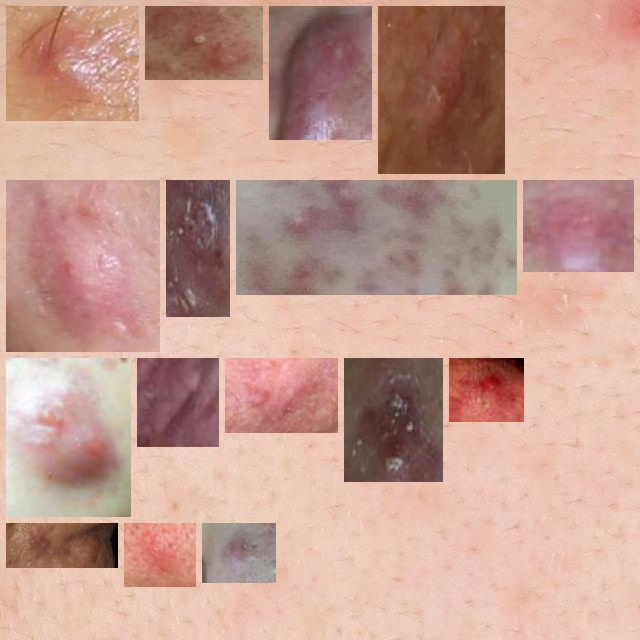nodule: (244, 181, 509, 287), (14, 188, 152, 344), (386, 14, 497, 166), (14, 366, 123, 509), (14, 14, 131, 113), (277, 14, 364, 132), (352, 366, 435, 474), (531, 188, 626, 264), (153, 14, 255, 72), (174, 188, 222, 309), (233, 366, 330, 425), (145, 366, 211, 439), (457, 366, 516, 414), (14, 531, 110, 560), (132, 531, 188, 579), (210, 531, 268, 575)
